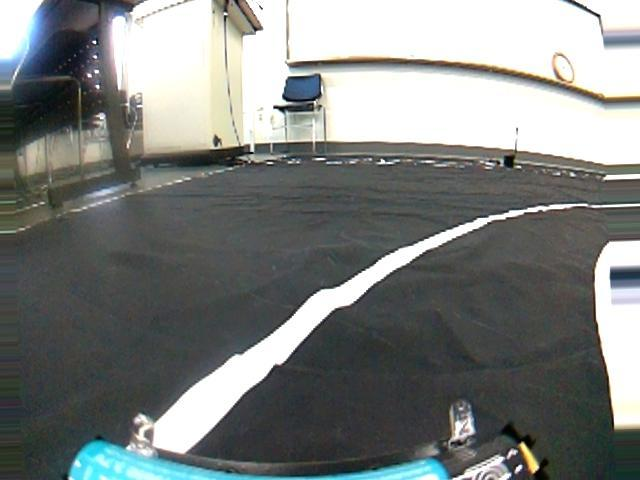right: (4, 197, 640, 480)
